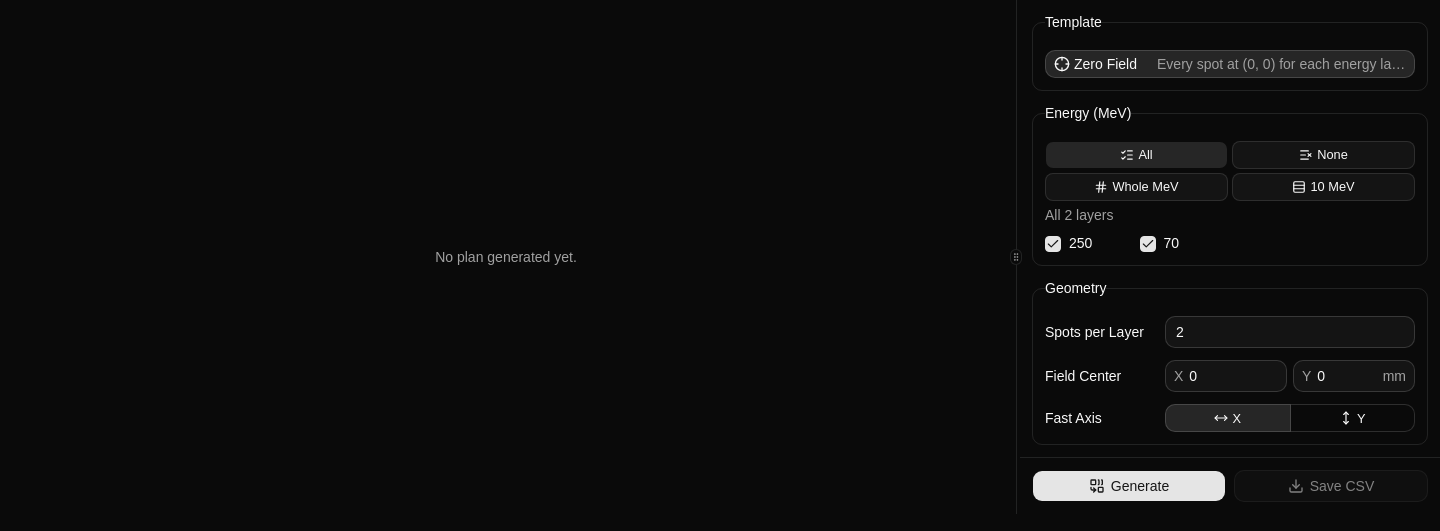
Scenario: generates a plan from the catalog
The image size is (1440, 531).
Expected: the button "Zero Field Every spot at (0, 0) for each energy layer." is shown, top-left (1045, 50), bottom-right (1415, 78)
Click the button "Generate" at (1129, 486), box top-left (1032, 470), bottom-right (1226, 502)
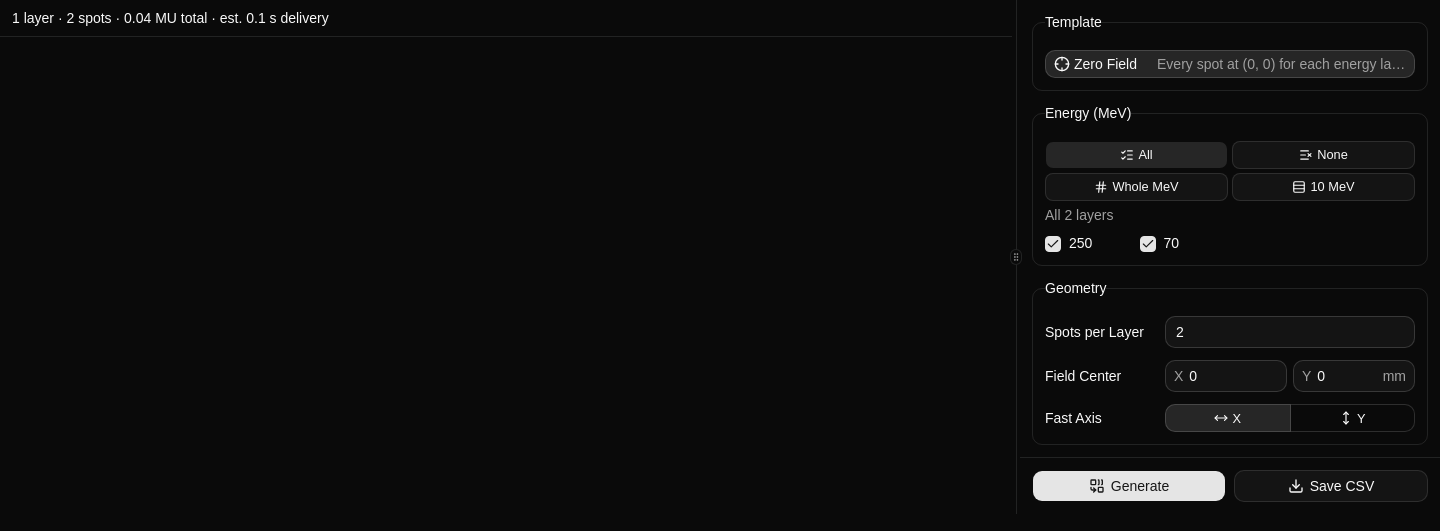
Now the text "2 spots" is shown, box top-left (12, 10), bottom-right (329, 26)
